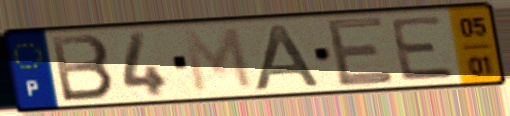4: (119, 28, 171, 99)
A: (251, 22, 326, 93)
B: (47, 32, 118, 105)
E: (322, 14, 398, 90), (386, 13, 459, 84)
M: (179, 25, 257, 96)
